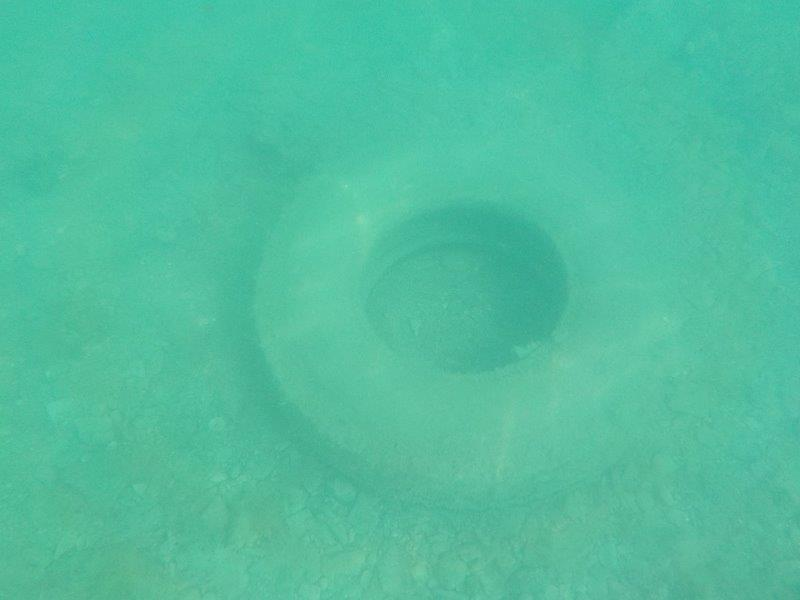tire: (245, 122, 674, 516)
